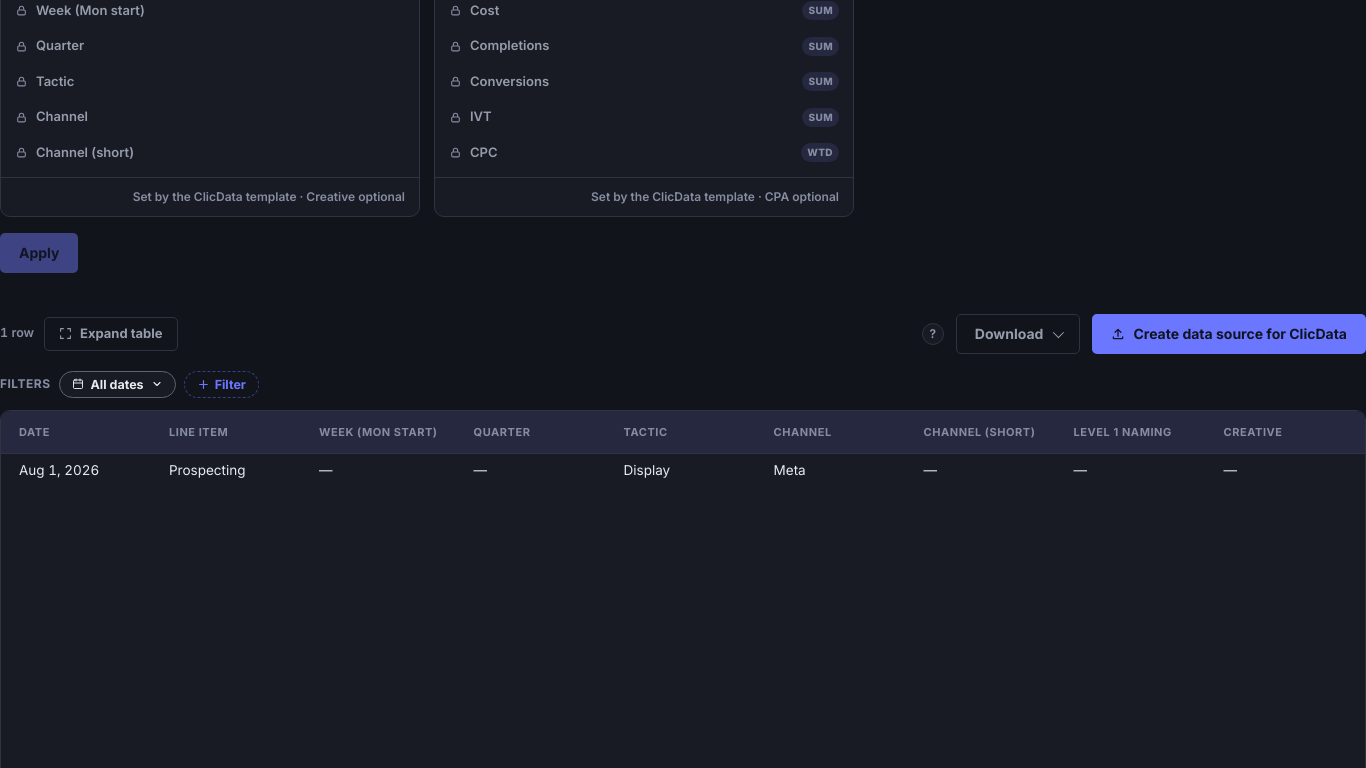
Test: DashboardsTab › should keep the rows it is showing while a filter change is read
The image size is (1366, 768).
(page scrolled)
Check: the text "Prospecting" is shown, box [151,454,301,487]
Click the button "Filter" at (221,384), box [184,371,259,398]
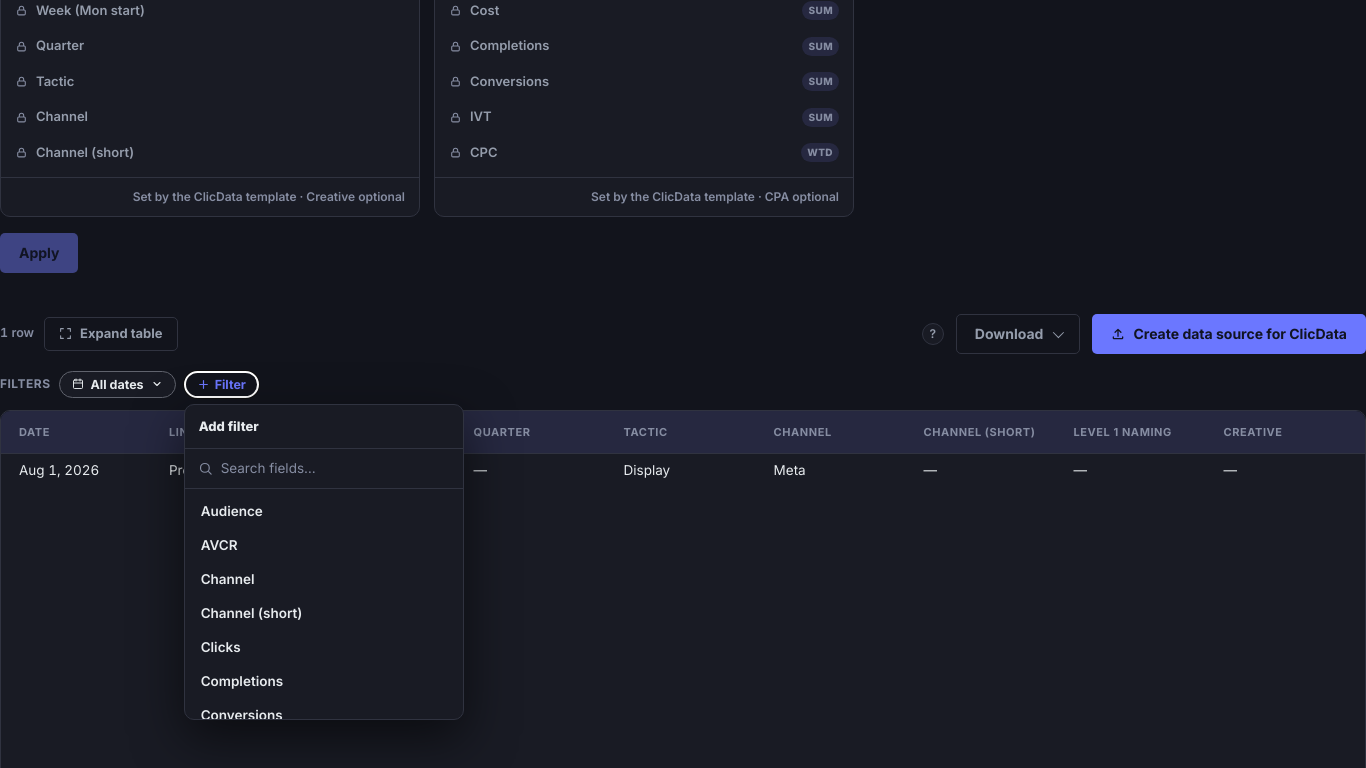
Click the button "Channel" at (324,578), box [199,562,449,594]
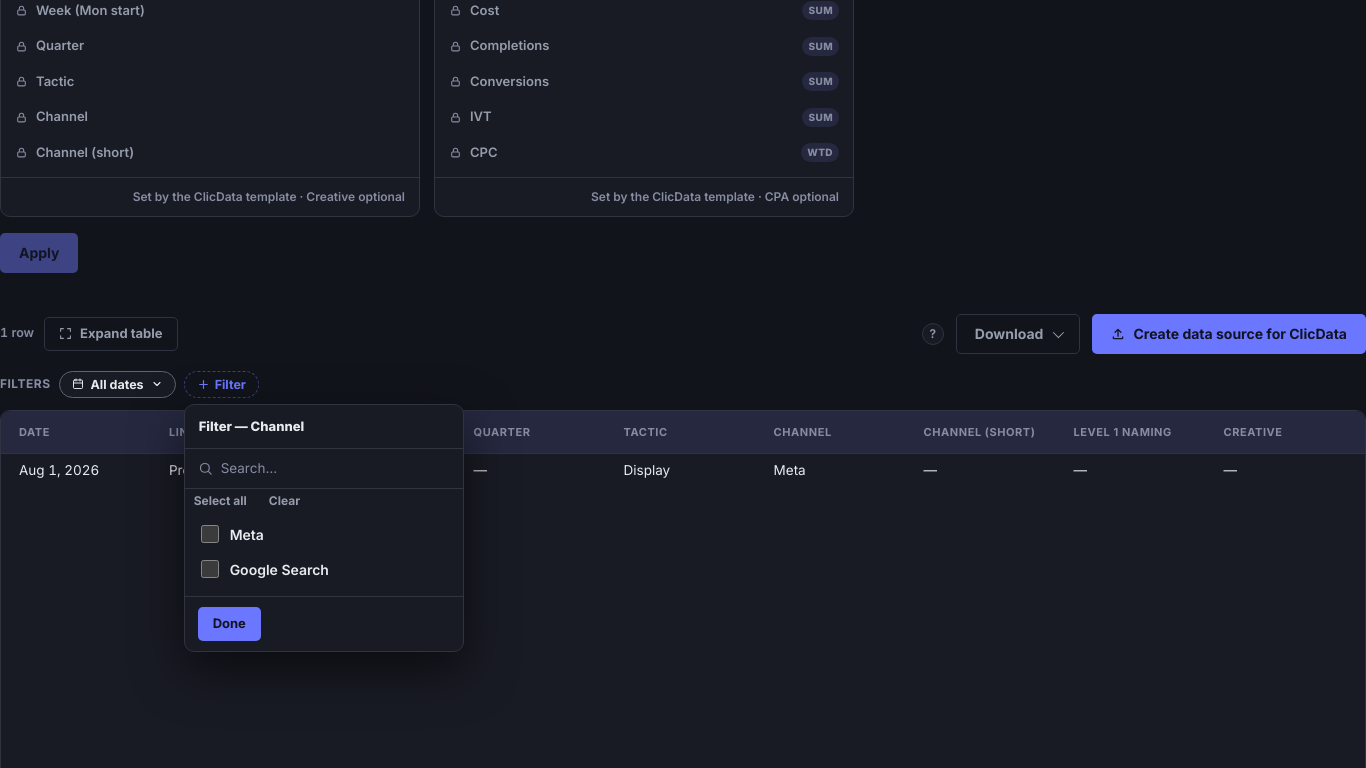
Click the checkbox labelled "Meta" at (210,534), box [201,525,219,543]
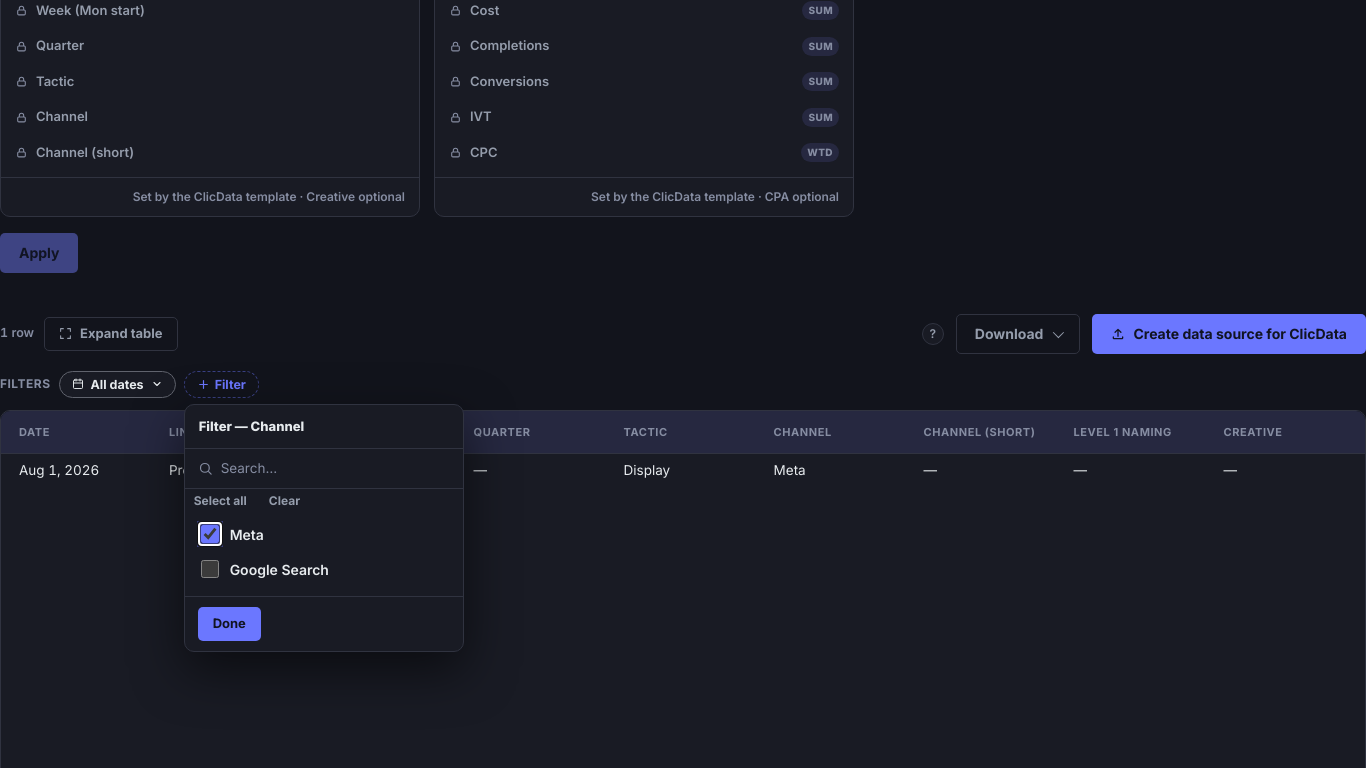
Click the button "Done" at (229,624), box [198,606,261,640]
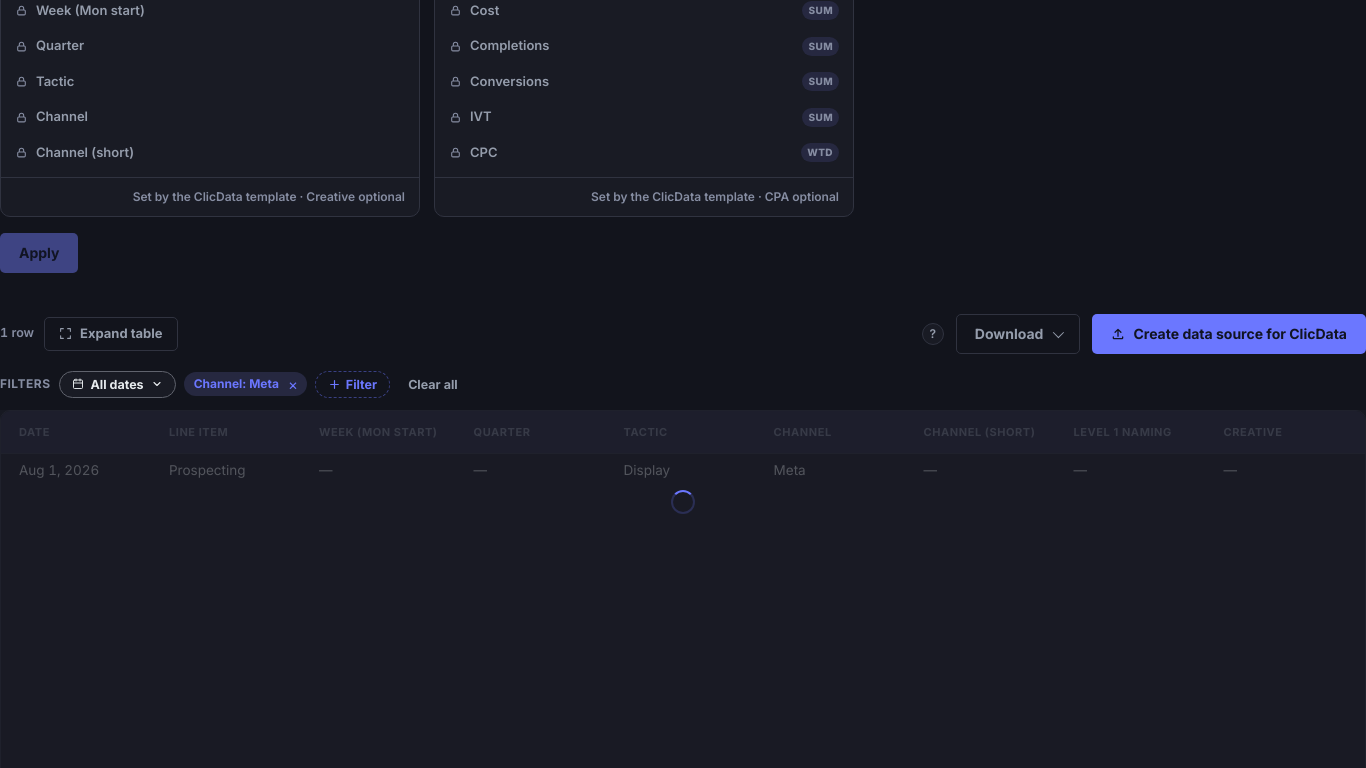
Check: the text "Prospecting" is shown, box [151,454,301,487]
Check: the message named "Loading rows" is shown, box [671,490,695,514]
